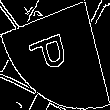P_E: (31, 30, 79, 80)
